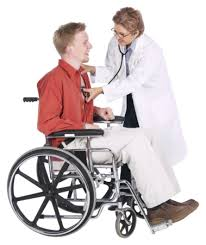wheelchair: (7, 21, 198, 238)
